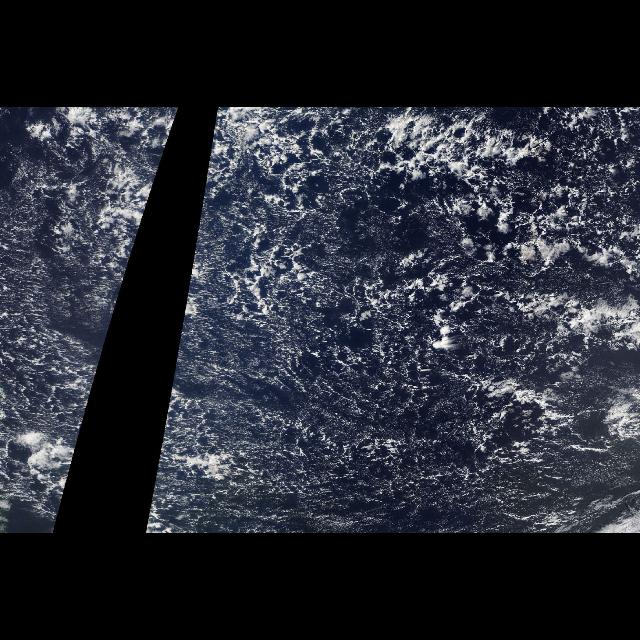Gravel: (146, 112, 640, 524), (2, 119, 178, 524)
